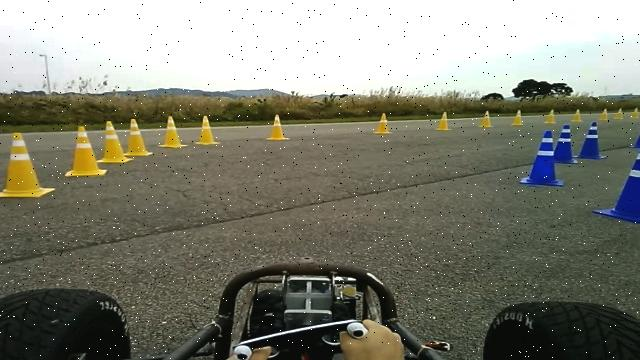blue cone: (593, 143, 640, 223), (520, 130, 565, 186), (576, 121, 608, 159), (553, 124, 579, 164)
yellow cone: (0, 132, 56, 198), (65, 126, 107, 176), (97, 120, 134, 164), (125, 118, 153, 156), (158, 115, 188, 148), (195, 115, 221, 145), (266, 114, 291, 140), (373, 112, 393, 134)
